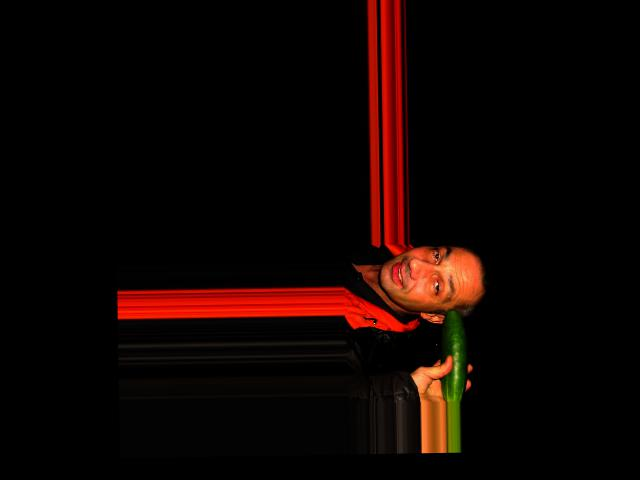cucumber: (440, 307, 468, 402)
